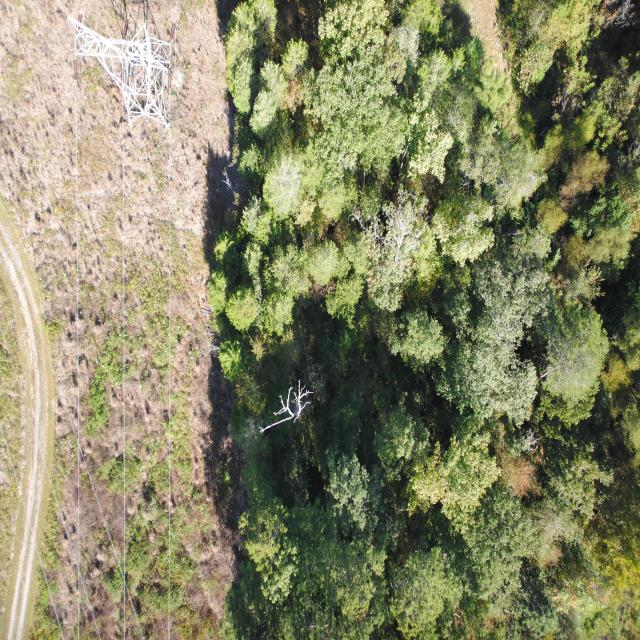Area of Interest: (239, 13, 637, 635)
